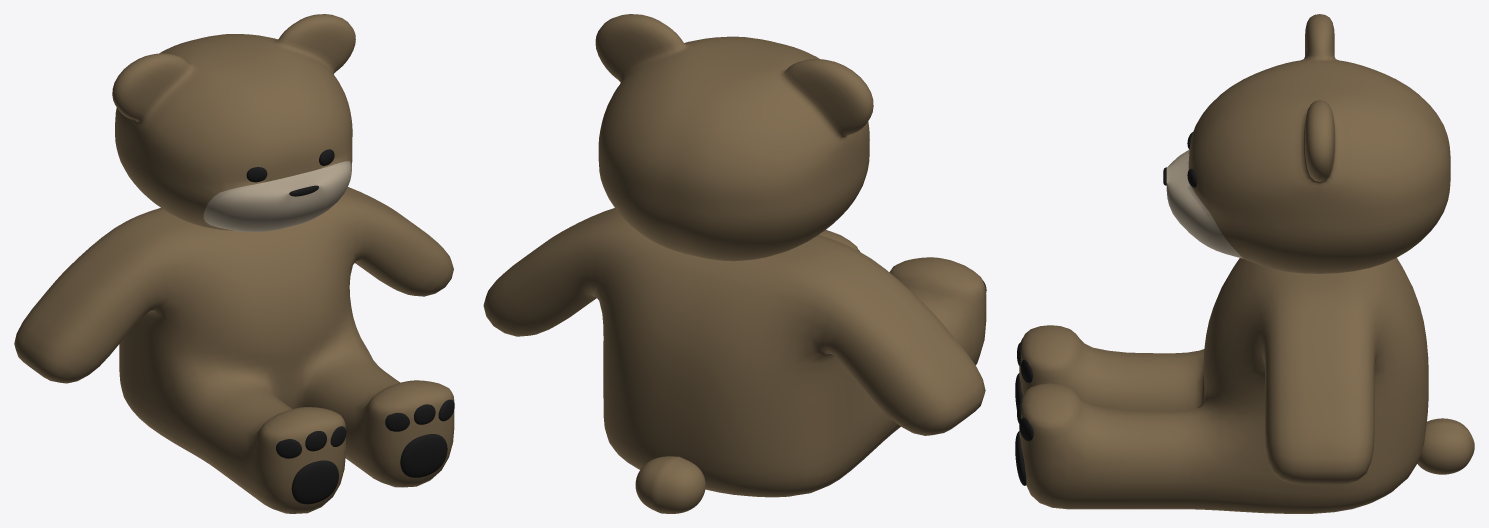
Rendered from bear.fbx.
The picture shows the model from 3 angles, left to right: view 1: azimuth 30°, elevation 25°; view 2: azimuth 150°, elevation 25°; view 3: azimuth 270°, elevation 25°; orthographic projection. The views are drawn at different scales.
Visible parts, largest first — view 1: bear; view 2: bear; view 3: bear.
Part boxes in pixels (x1,y1,x2,y2): bear: (14,14,454,513); bear: (483,14,986,513); bear: (1015,14,1474,513).
Size of the model in its own units: 0.9116 by 0.7974 by 0.7918.
